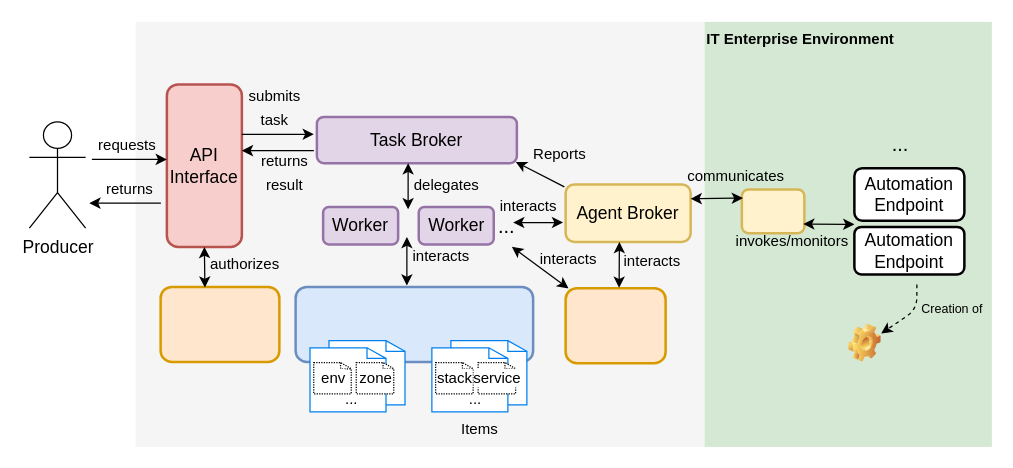
The diagram is 1013 pixels wide and 468 high, and some of its shapes have lost their labels. Each missing label, with the box of its shape:
Agent: (740, 188, 805, 234)
Authorization Module: (159, 285, 280, 362)
Configs: (309, 339, 405, 412)
Document Datastore: (294, 285, 534, 362)
Monitoring Module: (564, 286, 666, 364)
Stack Instance: (848, 323, 881, 362)
STACKL: (135, 21, 704, 446)
